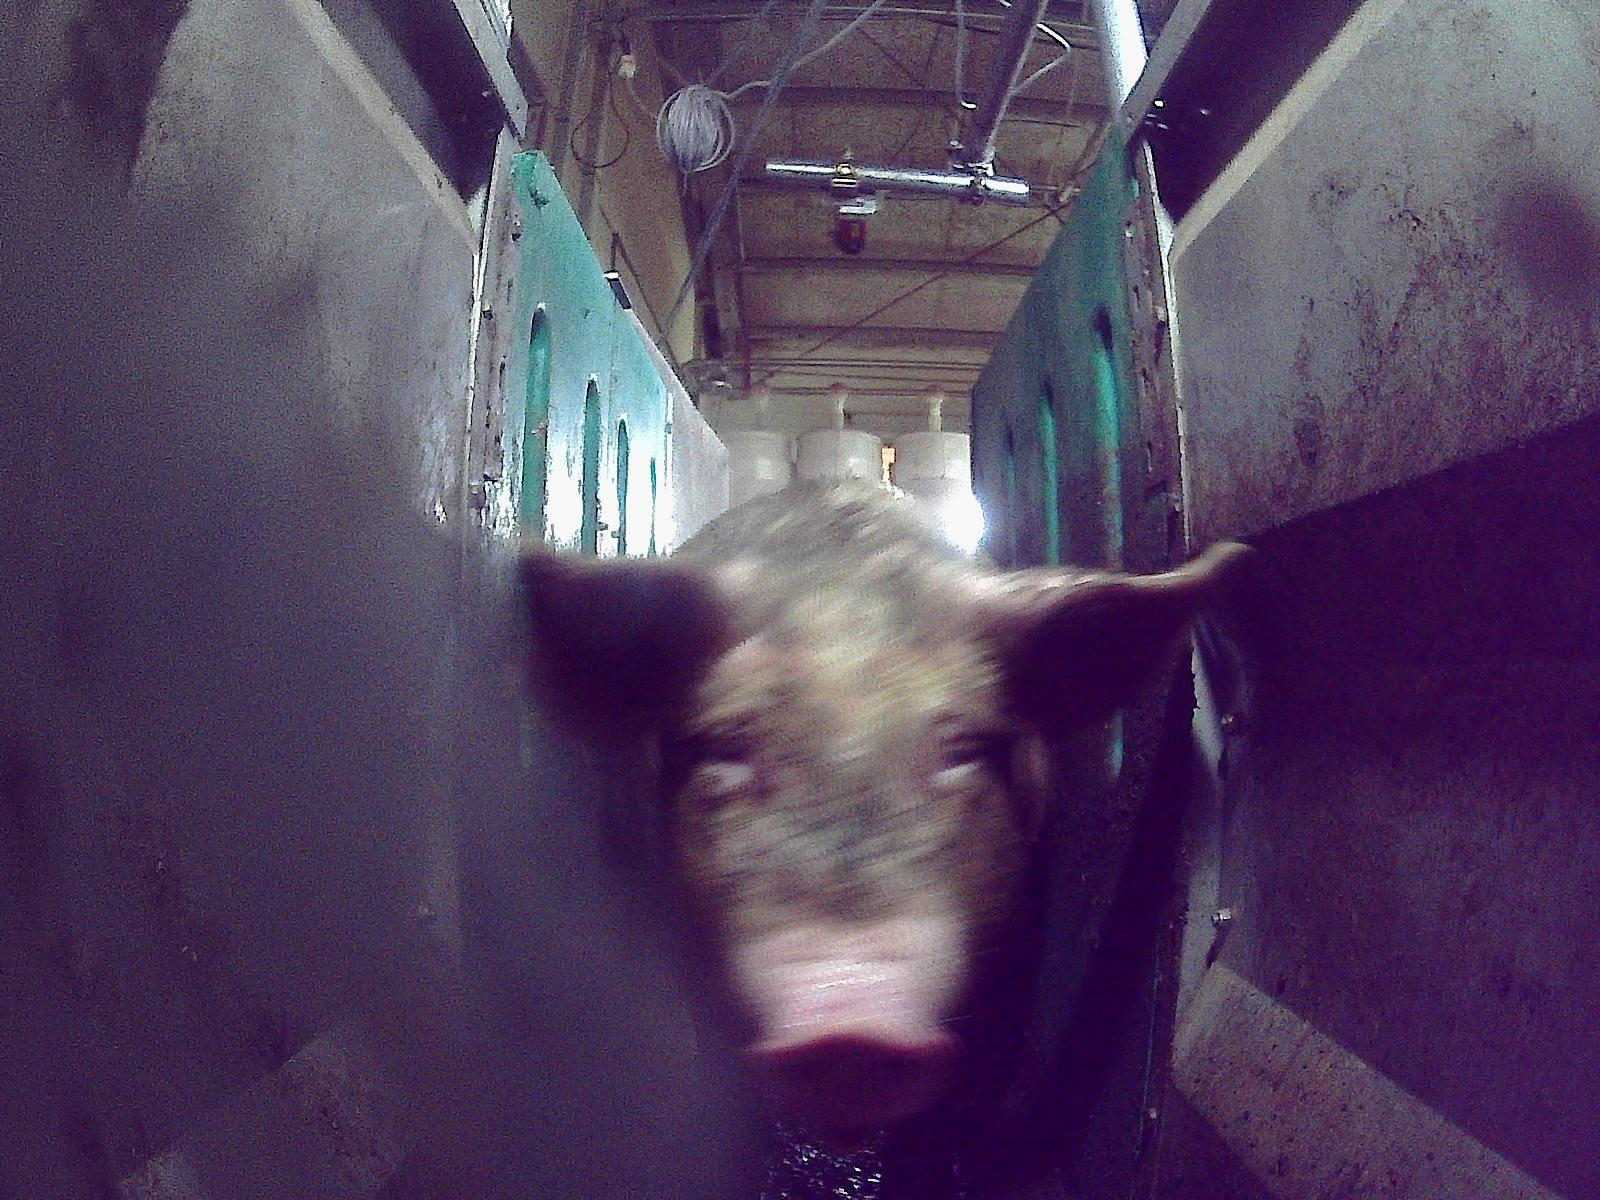Face: (678, 591, 1042, 1143)
